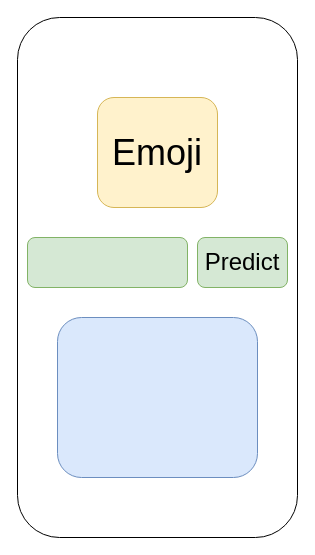
This 315x555 diagram has some shape labels left out. The box of each missing label's shape, as (x1, y1, x2, y2) in pixels:
Start typing...: (26, 236, 188, 288)
TOP 5 Tweets: (56, 316, 258, 478)
